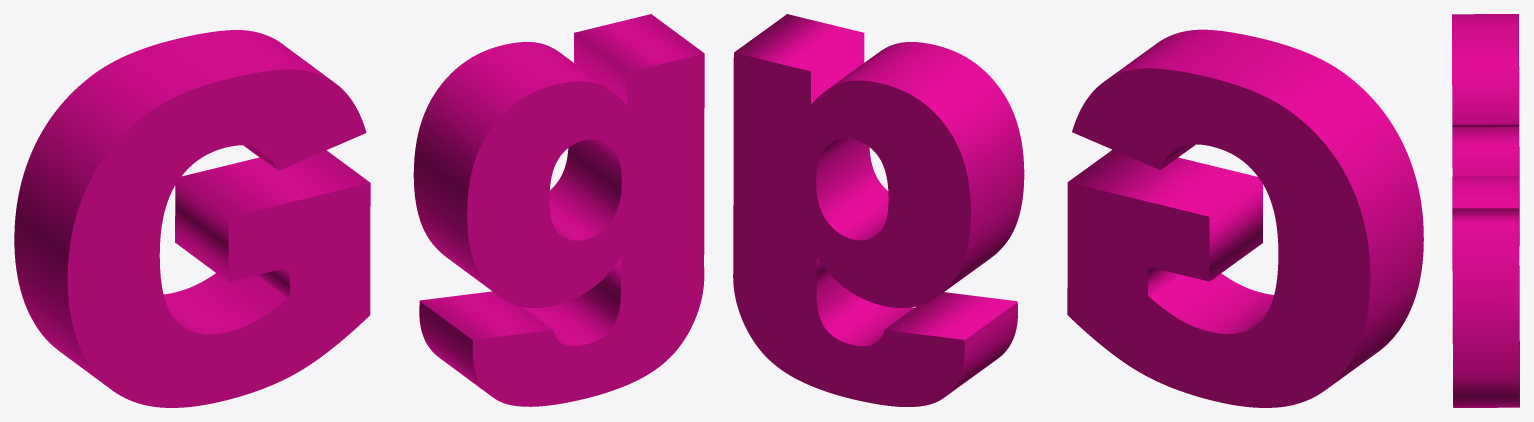
File: letra g.fbx
The picture shows the model from 3 angles, left to right: view 1: azimuth 30°, elevation 25°; view 2: azimuth 150°, elevation 25°; view 3: azimuth 270°, elevation 25°; orthographic projection. The views are drawn at different scales.
Visible parts, largest first — view 1: Text; view 2: Text; view 3: Text.
Part boxes in pixels (x1,y1,x2,y2): Text: (14, 14, 704, 407); Text: (733, 14, 1423, 407); Text: (1452, 14, 1519, 407).
Size of the model in its own units: 110 by 67.57 by 16.28.
